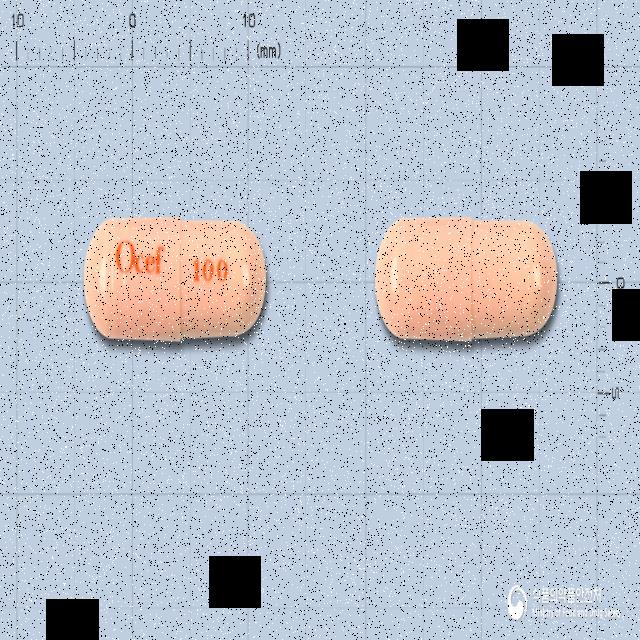Omnicef Cap: (84, 215, 268, 344)
